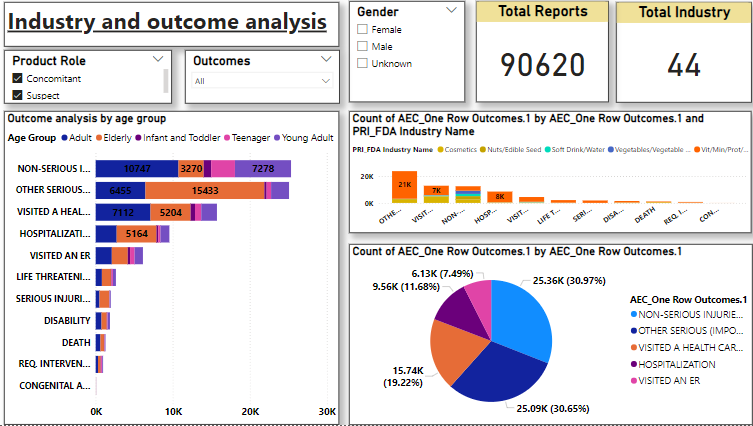

The dashboard page shown, as its layout file describes it:
{"tool":"powerbi","page":{"name":"Industry and outcome analysis","canvas":[1280,720],"ordinal":13},"visuals":[{"type":"textbox","box":[10,10,563.3,75],"z":0},{"type":"slicer","fields":{"Values":["CAERS_ASCII_2004_2017Q2.CI_Gender"]},"box":[590,8.8,194.9,170.3],"z":1000},{"type":"slicer","fields":{"Values":["CAERS_ASCII_2004_2017Q2.AEC_One Row Outcomes.1"]},"box":[313.3,90,260,90],"z":2000},{"type":"slicer","fields":{"Values":["CAERS_ASCII_2004_2017Q2.PRI_Product Role"]},"box":[10,90,281.7,90],"z":3000},{"type":"card","title":"Total Industry","fields":{"Values":["Count(CAERS_ASCII_2004_2017Q2.PRI_FDA Industry Code)"]},"box":[1037.7,10.5,228.3,168.6],"z":4000},{"type":"card","title":"Total Reports","fields":{"Values":["CountNonNull(CAERS_ASCII_2004_2017Q2.RA_Report #)"]},"box":[802.4,8.8,223,170.3],"z":5000},{"type":"barChart","title":"Outcome analysis by age group","fields":{"Category":["CAERS_ASCII_2004_2017Q2.AEC_One Row Outcomes.1"],"Y":["CountNonNull(CAERS_ASCII_2004_2017Q2.AEC_One Row Outcomes.1)"],"Series":["CAERS_ASCII_2004_2017Q2.Age Group"]},"box":[10,193.3,563.3,526.7],"z":6000},{"type":"columnChart","fields":{"Category":["CAERS_ASCII_2004_2017Q2.AEC_One Row Outcomes.1"],"Y":["CountNonNull(CAERS_ASCII_2004_2017Q2.AEC_One Row Outcomes.1)"],"Series":["CAERS_ASCII_2004_2017Q2.PRI_FDA Industry Name"]},"box":[590,193.1,676,205.4],"z":7000},{"type":"pieChart","fields":{"Category":["CAERS_ASCII_2004_2017Q2.AEC_One Row Outcomes.1"],"Y":["CountNonNull(CAERS_ASCII_2004_2017Q2.AEC_One Row Outcomes.1)"]},"box":[590,416.1,677.8,303.8],"z":8000}]}

Visuals, with their boxes in screenshot pixels (x1, y1, x2, y2), scaled from the page's 1280x720 canvas onto the 753x426 screenshot:
textbox: (6, 6, 337, 50)
slicer - CAERS_ASCII_2004_2017Q2.CI_Gender: (347, 5, 462, 106)
slicer - CAERS_ASCII_2004_2017Q2.AEC_One Row Outcomes.1: (184, 53, 337, 106)
slicer - CAERS_ASCII_2004_2017Q2.PRI_Product Role: (6, 53, 172, 106)
"Total Industry" card: (610, 6, 745, 106)
"Total Reports" card: (472, 5, 603, 106)
"Outcome analysis by age group" barChart: (6, 114, 337, 425)
columnChart - CAERS_ASCII_2004_2017Q2.AEC_One Row Outcomes.1 x CountNonNull(CAERS_ASCII_2004_2017Q2.AEC_One Row Outcomes.1): (347, 114, 745, 236)
pieChart - CAERS_ASCII_2004_2017Q2.AEC_One Row Outcomes.1 x CountNonNull(CAERS_ASCII_2004_2017Q2.AEC_One Row Outcomes.1): (347, 246, 746, 425)
